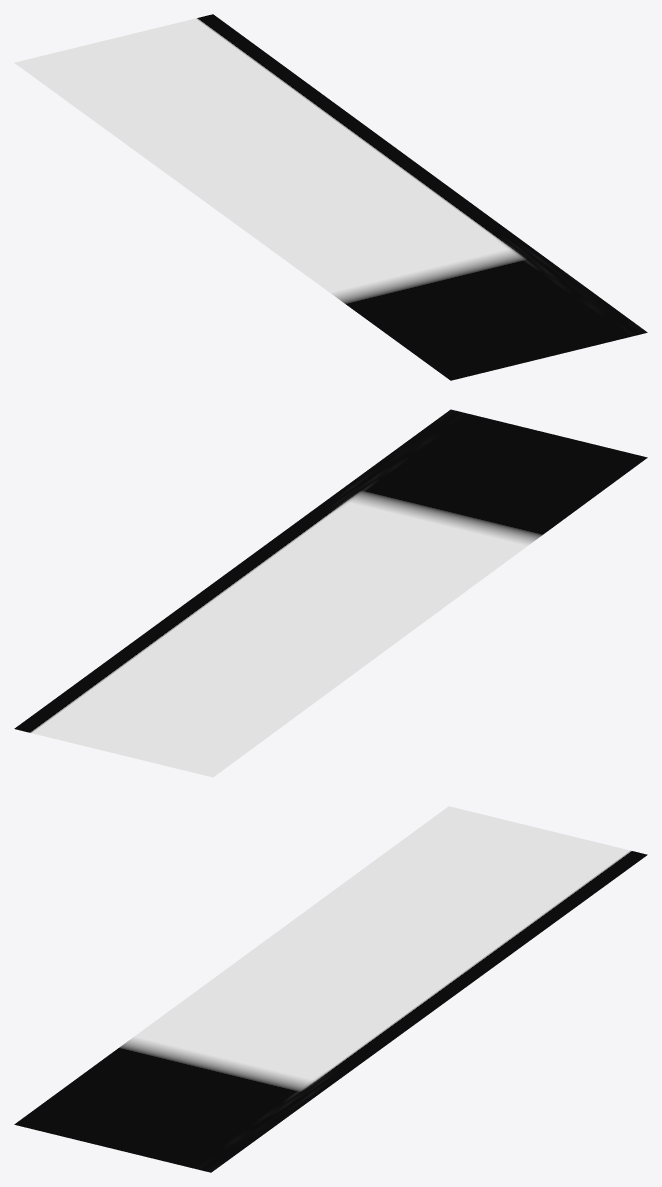
File: OuterGrid_plane.fbx
3 renders of one model, top to bottom at view 1: azimuth 30°, elevation 25°; view 2: azimuth 150°, elevation 25°; view 3: azimuth 330°, elevation 25°, orthographic.
Visible parts, largest first — view 1: OuterGrid_plane; view 2: OuterGrid_plane; view 3: OuterGrid_plane.
Part boxes in pixels (x1,y1,x2,y2): OuterGrid_plane: (14, 14, 647, 380); OuterGrid_plane: (14, 409, 647, 777); OuterGrid_plane: (14, 806, 647, 1172).
Size of the model in its own units: 173 by 0.6198 by 655.
